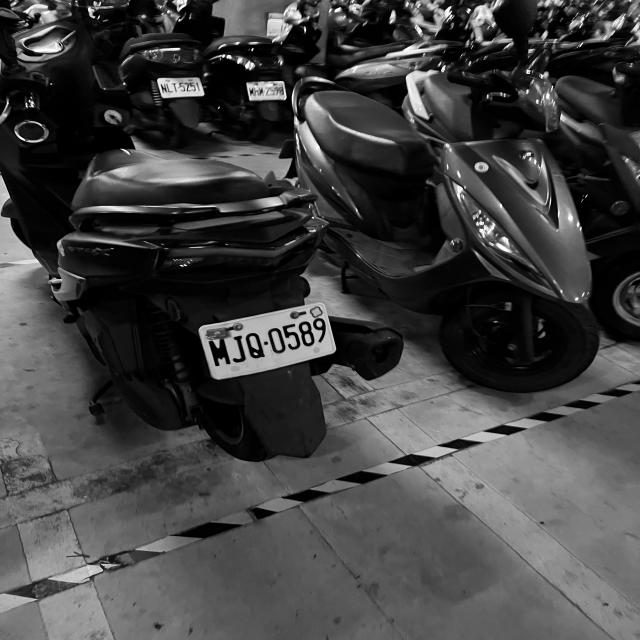-: (262, 340, 269, 348)
0: (265, 325, 288, 356)
1: (195, 82, 202, 92)
5: (280, 322, 302, 352)
8: (295, 319, 316, 348)
9: (312, 317, 332, 344)
J: (228, 332, 251, 366)
M: (206, 337, 234, 370)
Q: (243, 329, 267, 361)
plate: (200, 306, 339, 375), (158, 78, 204, 96), (247, 81, 286, 100)
